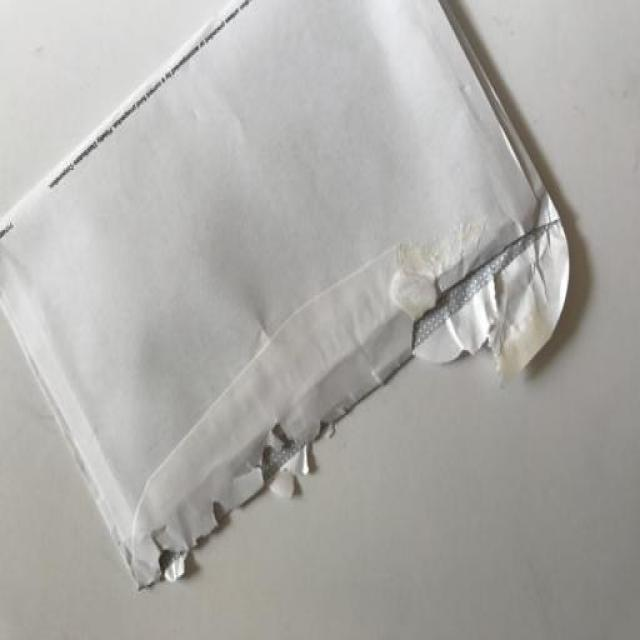paper: (1, 1, 614, 597)
